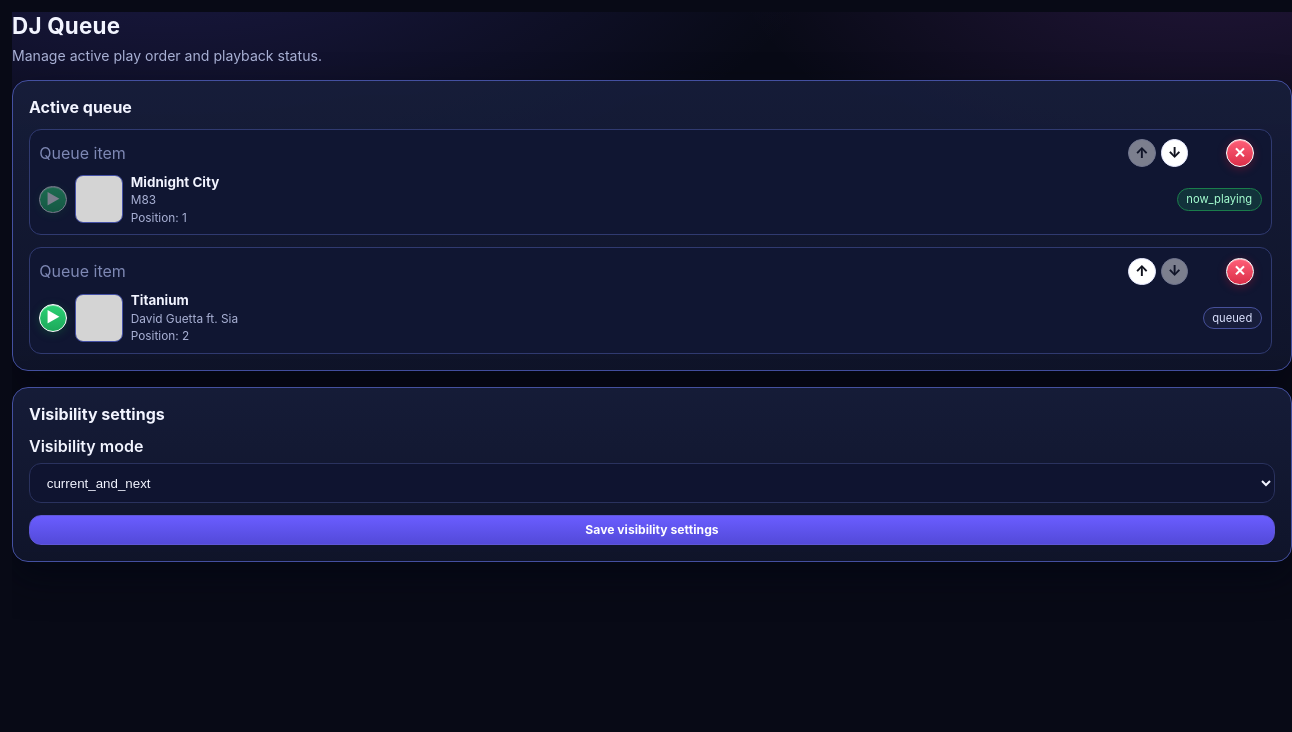
Scenario: QueuePage › handles move down action
Expected: the text "Midnight City" is shown, [131,174,219,190]
Click the button named "Move Down" at (1175, 153), box [1161,139,1188,167]
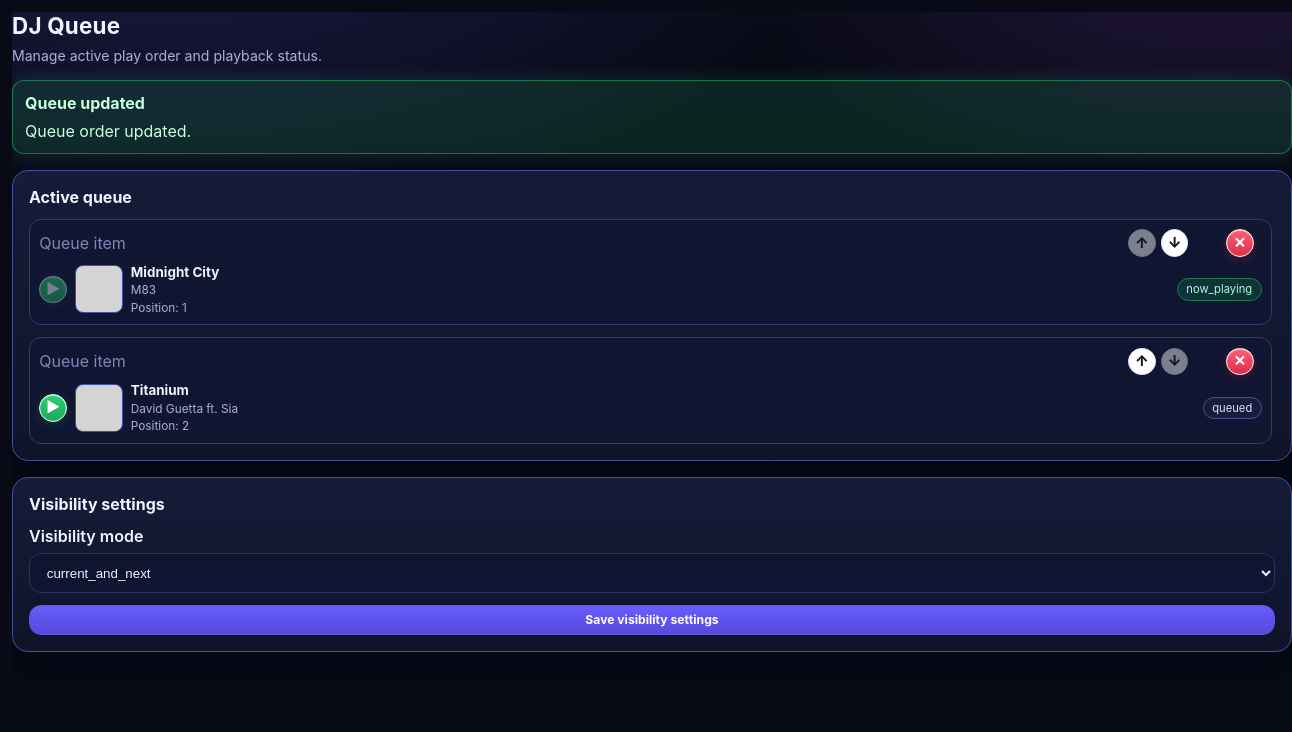
Now the text "Queue order updated." is shown, box [25,121,191,141]
